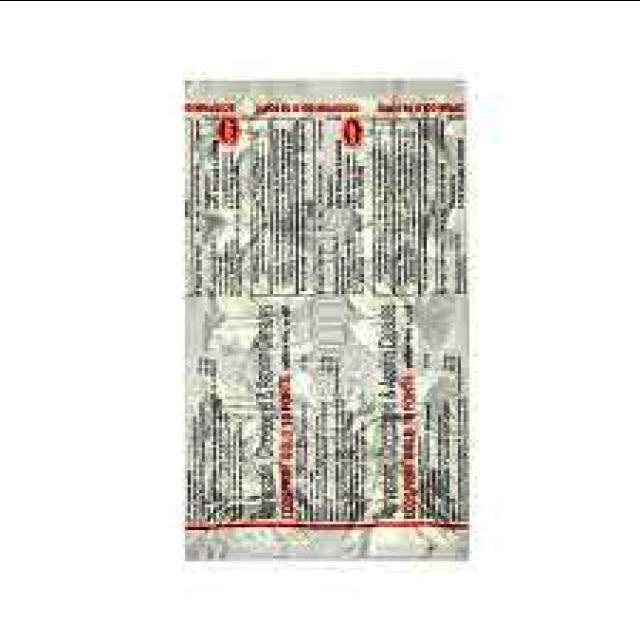authentic: (176, 65, 479, 567)
